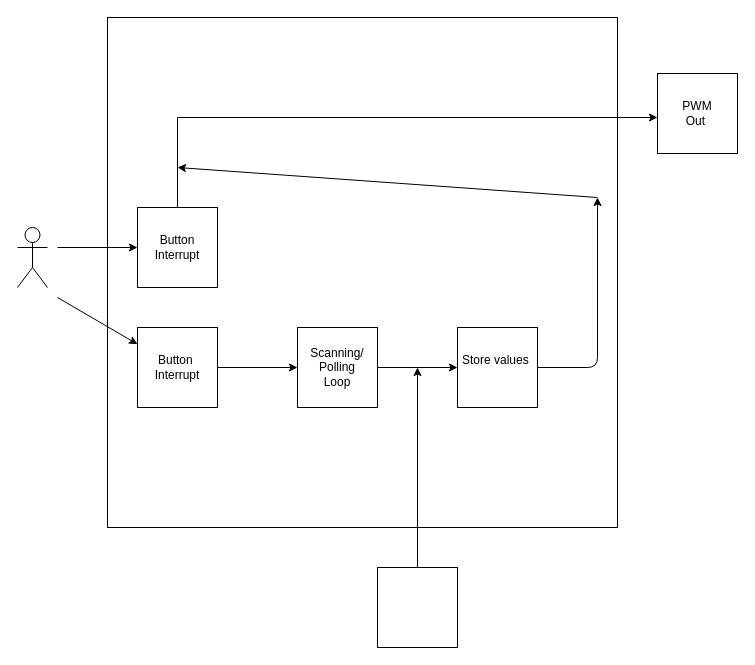
Some shapes in this 755 by 665 pixel diagram are drawn without their labels. The centre of each missing label's shape, as x and y in pixels:
"Actor" goes at pixel 32 257.
"PWM IR in" goes at pixel 417 607.
